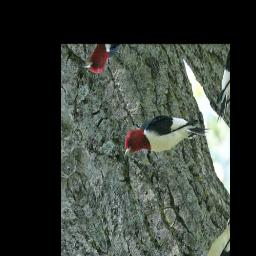Woodpecker: (112, 71, 216, 204)
